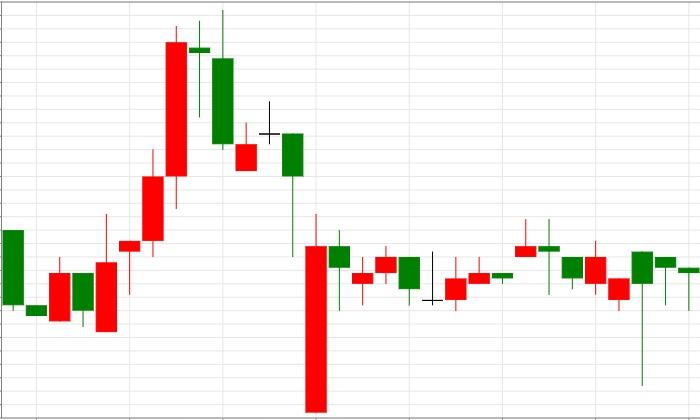hammer_rise: (189, 9, 303, 257)
